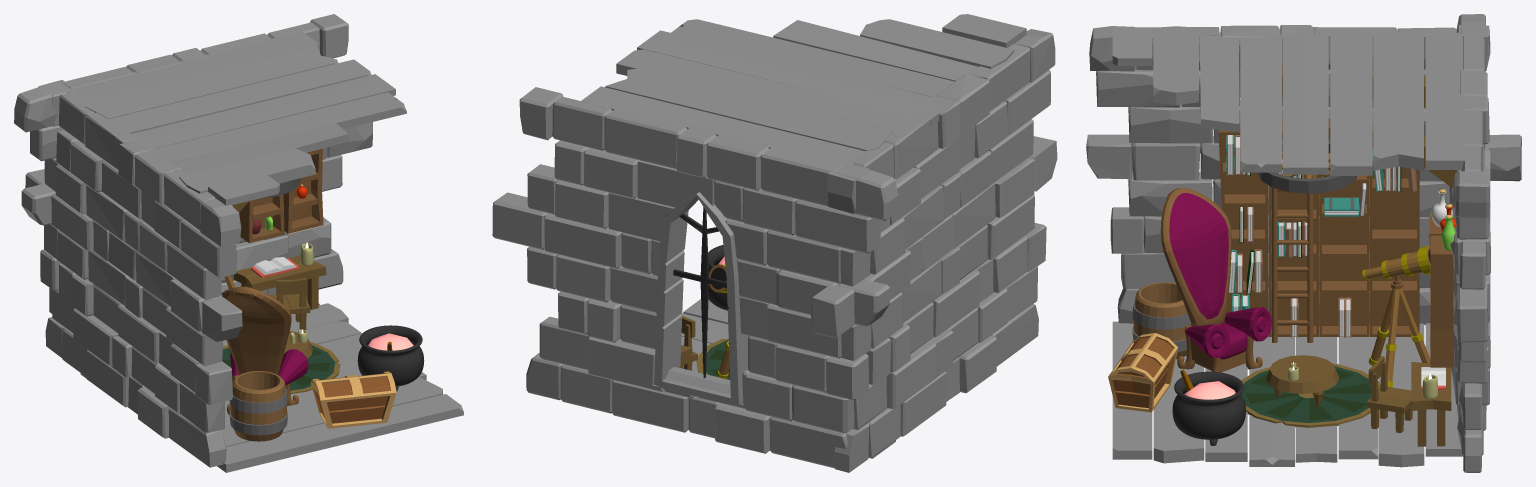
The model's file is room.glb.
3 renders of one model, left to right at view 1: azimuth 30°, elevation 25°; view 2: azimuth 150°, elevation 25°; view 3: azimuth 270°, elevation 25°, orthographic. The views are drawn at different scales.
Visible parts, largest first — view 1: Cube.111, Cube.113, Cube.104, Cube.110, Cube.114, Plane, Cube.112, Cube.119, Cylinder, Cube.115, Cube.116, Kettle_Fart (+70 smaller); view 2: window.001, Cube.111, Cube.113, Cube.110, Cube.114, Cube.112, Cube.115, Cube.116, Cube.046, Cube.043, Cube.037, Cube.028 (+92 smaller); view 3: Plane, Cube.111, Cube.113, Cube.135, Cube.110, Cube.138, Cube.114, Cube.112, Circle, Cube.137, Cube.136, Cube.119 (+62 smaller).
Boxes of the visible parts, x1,y1,x2,y2 form: Cube.111: (85, 45, 338, 118); Cube.113: (115, 74, 395, 148); Cube.104: (217, 394, 463, 472); Cube.110: (105, 59, 371, 134); Cube.114: (140, 92, 406, 162); Plane: (221, 286, 291, 375); Cube.112: (67, 31, 319, 101); Cube.119: (310, 371, 396, 428); Cylinder: (229, 371, 287, 441); Cube.115: (174, 123, 348, 174); Cube.116: (179, 148, 315, 193); Kettle_Fart: (357, 325, 424, 391); window.001: (654, 192, 749, 405); Cube.111: (605, 68, 892, 151); Cube.113: (637, 30, 940, 126); Cube.110: (616, 49, 923, 132); Cube.114: (671, 19, 954, 100); Cube.112: (581, 86, 864, 165); Cube.115: (773, 20, 977, 81); Cube.116: (860, 19, 1014, 68); Cube.046: (604, 109, 687, 168); Cube.043: (760, 147, 843, 206); Cube.037: (795, 199, 880, 253); Cube.028: (544, 213, 622, 268); Plane: (1160, 188, 1231, 326); Cube.111: (1373, 30, 1423, 170); Cube.113: (1282, 27, 1328, 174); Cube.135: (1319, 118, 1369, 336); Cube.110: (1330, 30, 1372, 175); Cube.138: (1369, 123, 1419, 336); Cube.114: (1240, 29, 1281, 172); Cube.112: (1425, 32, 1465, 169); Circle: (1241, 363, 1380, 427); Cube.137: (1218, 122, 1268, 312); Cube.136: (1269, 122, 1318, 336); Cube.119: (1108, 333, 1178, 412).
Size of the model in its own units: 5.61 by 4.26 by 5.49.
